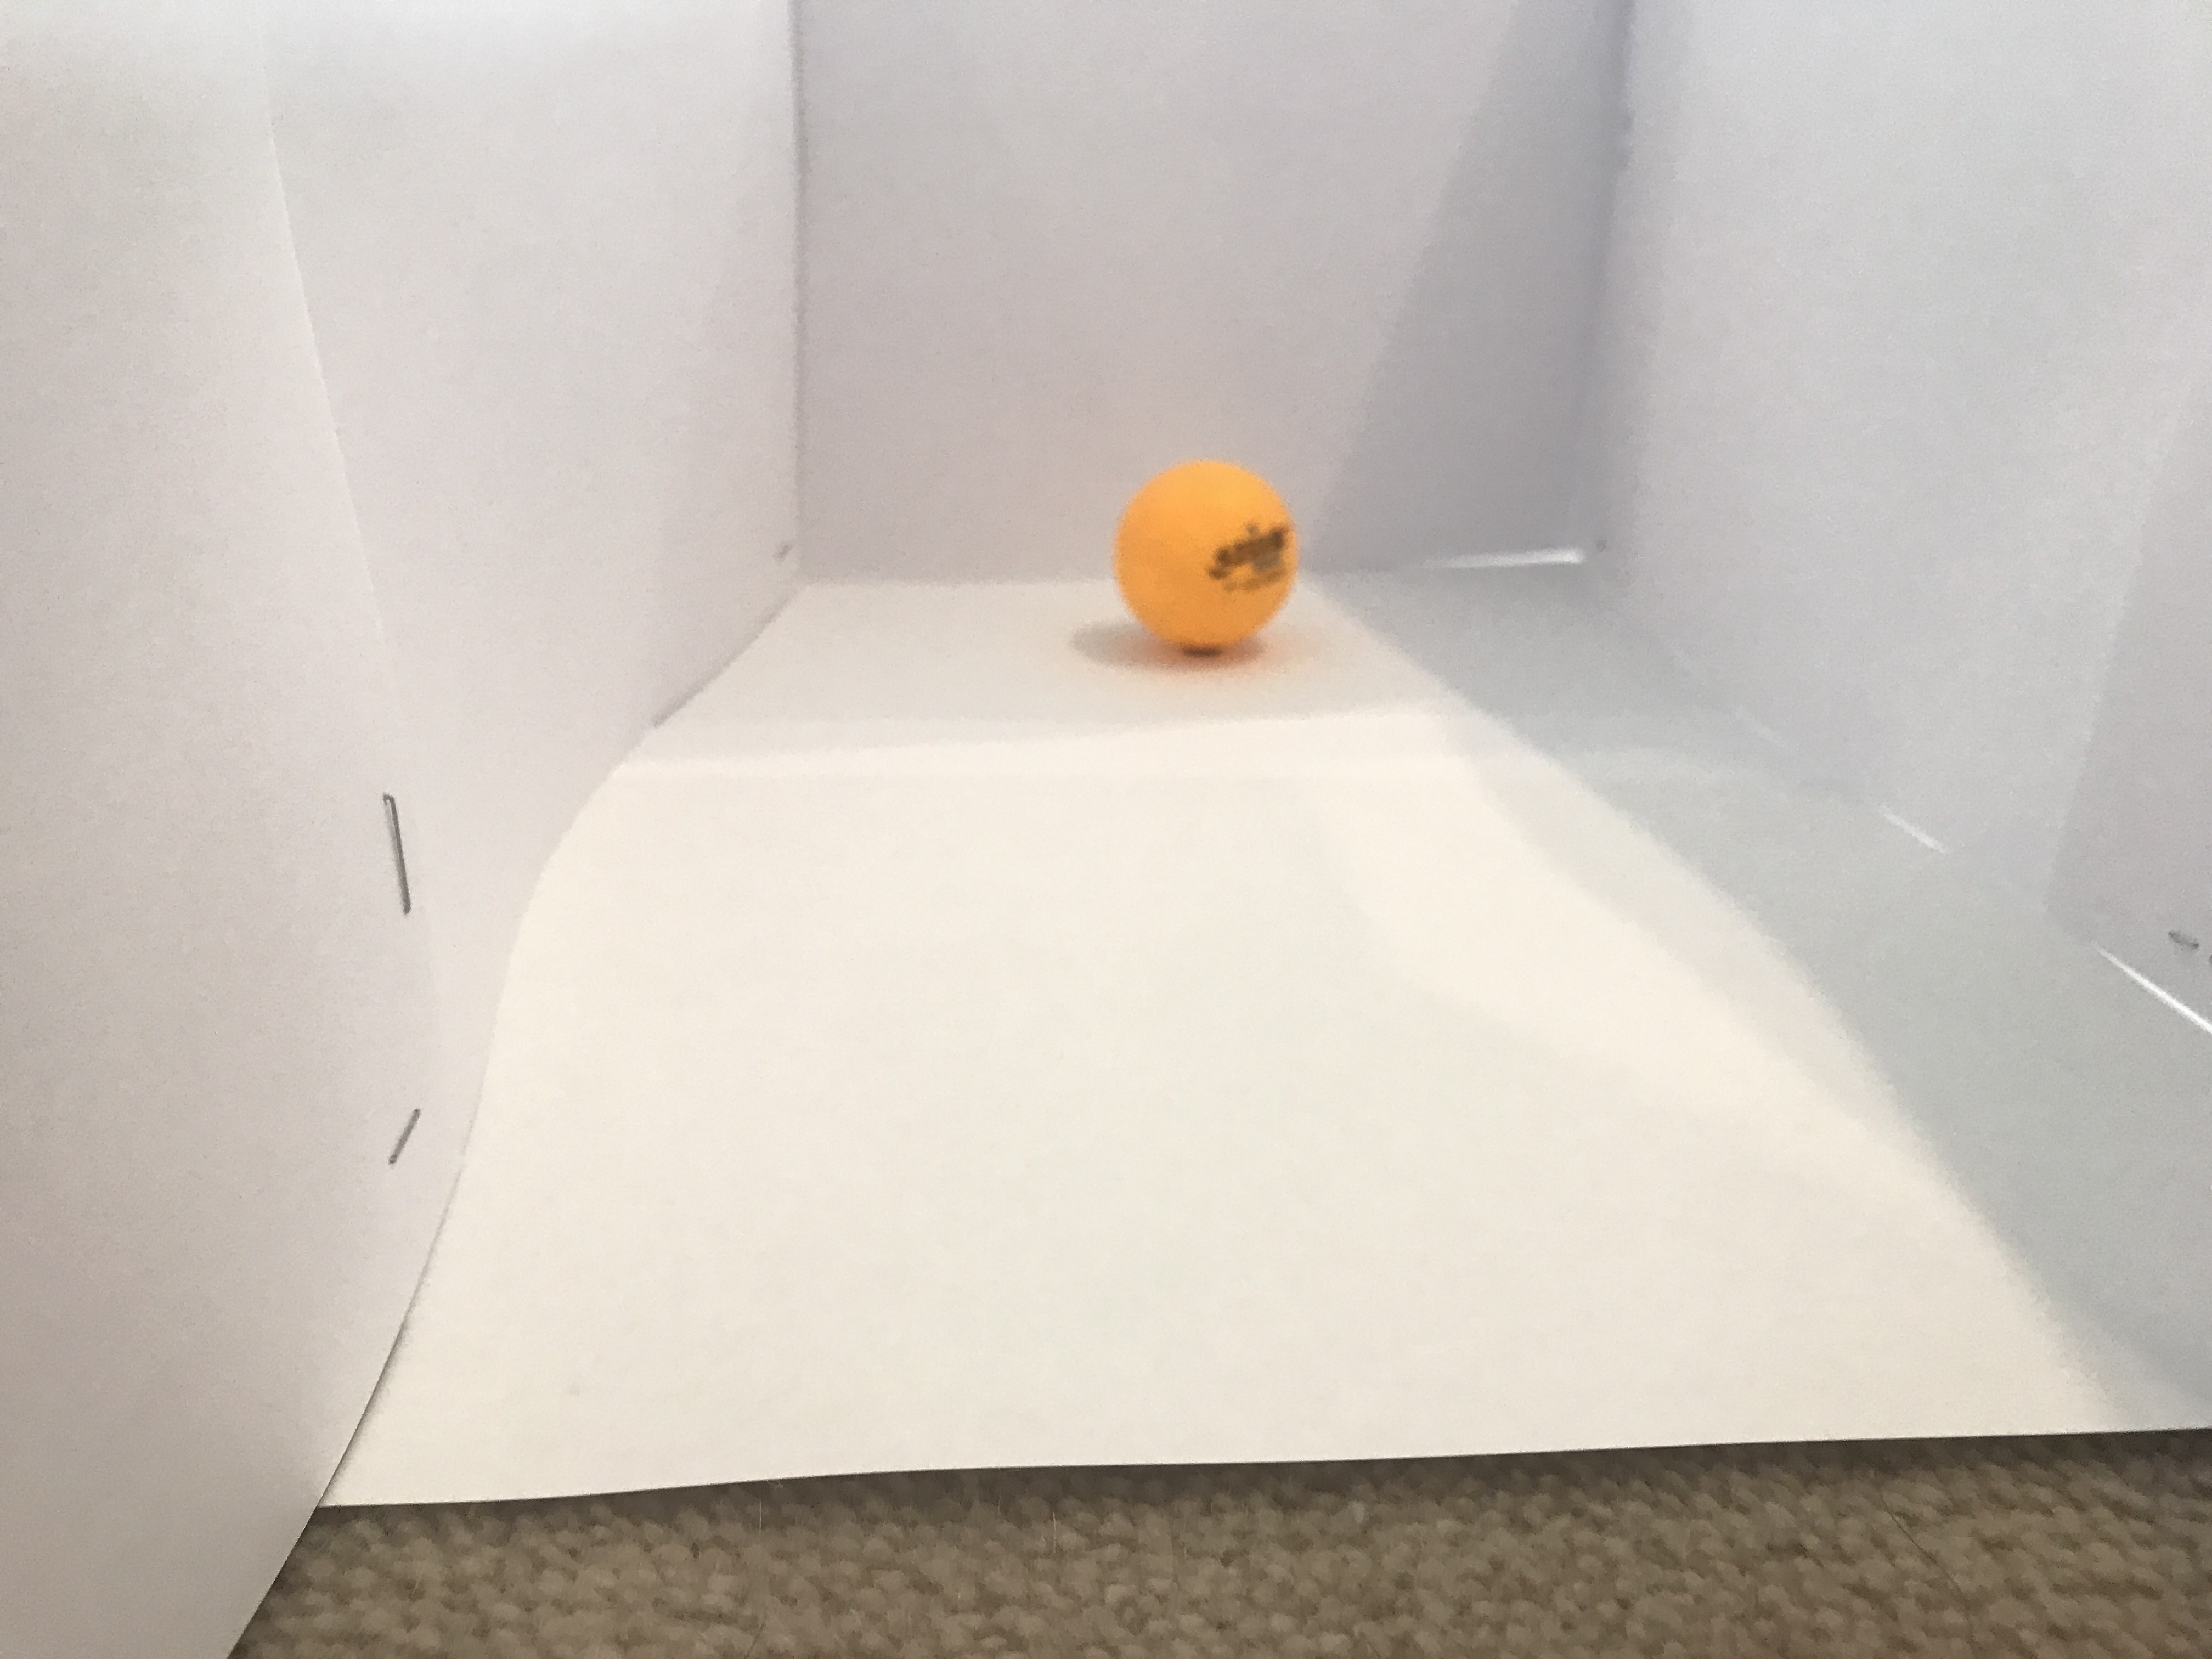pp: (1113, 458, 1303, 657)
